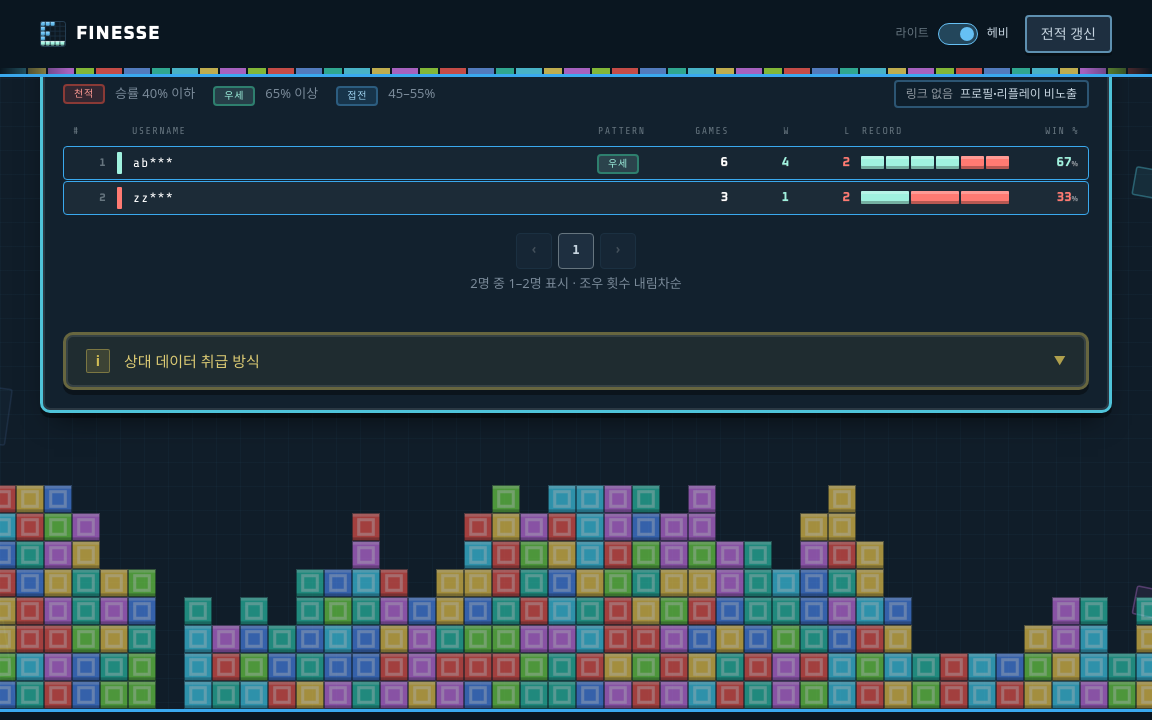
Test case: ReportPage — 헤비 뷰 › 상대 데이터 취급 방식은 제목만 보이다가 누르면 펼쳐진다
(page scrolled)
Check: the text "길이 보존 마스킹" is not shown
Click the button "i 상대 데이터 취급 방식 ▼". click: x=192, y=361
box: [66,334,1086,387]
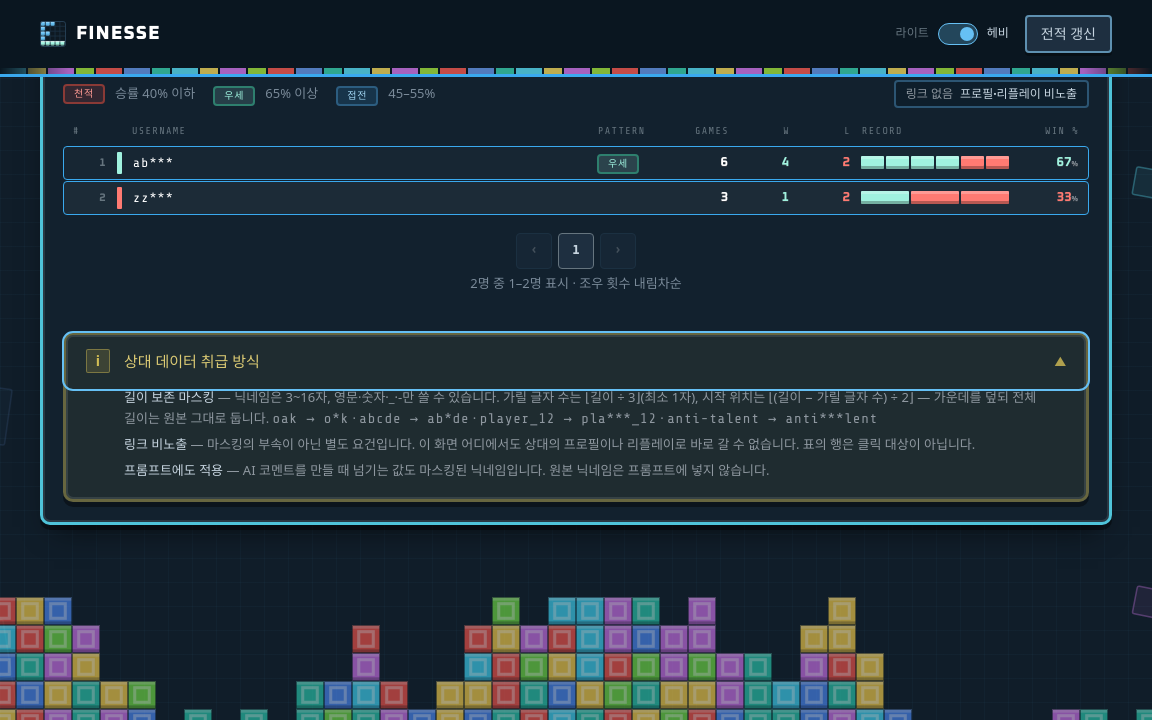
Check: the button "i 상대 데이터 취급 방식 ▼" is expanded
Check: the text "길이 보존 마스킹" is shown, box [124,388,214,406]
Click the button "i 상대 데이터 취급 방식 ▼". click: x=192, y=361
box: [66,334,1086,387]
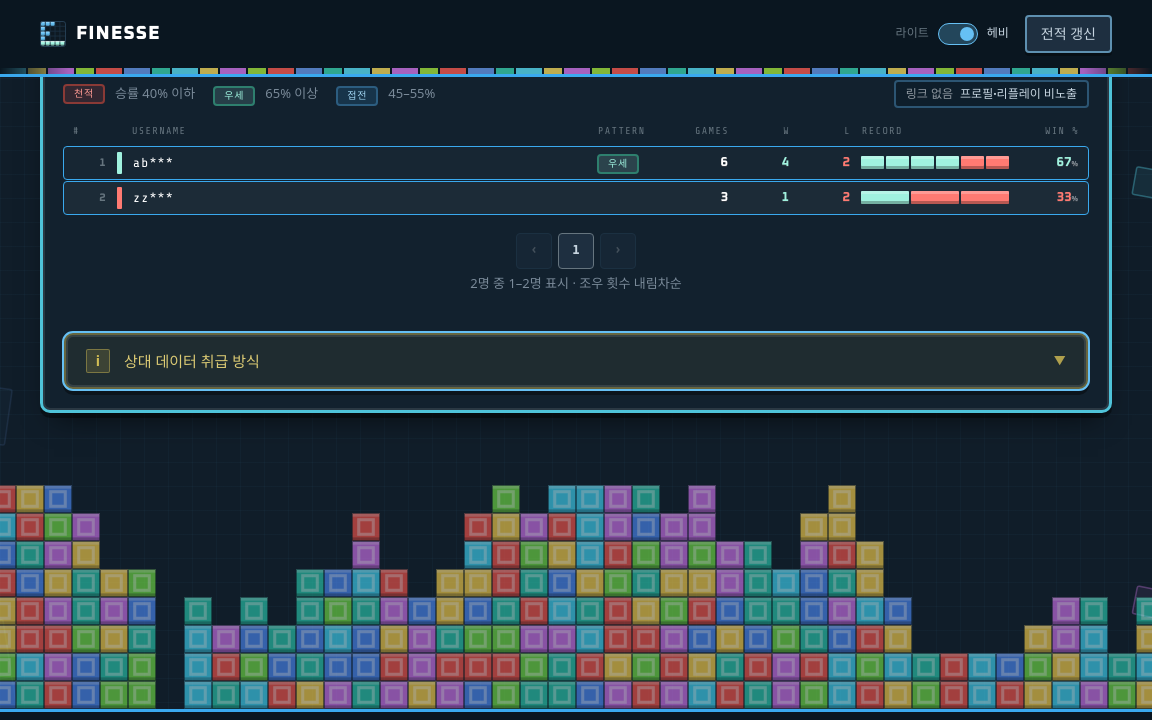
Check: the text "길이 보존 마스킹" is gone
